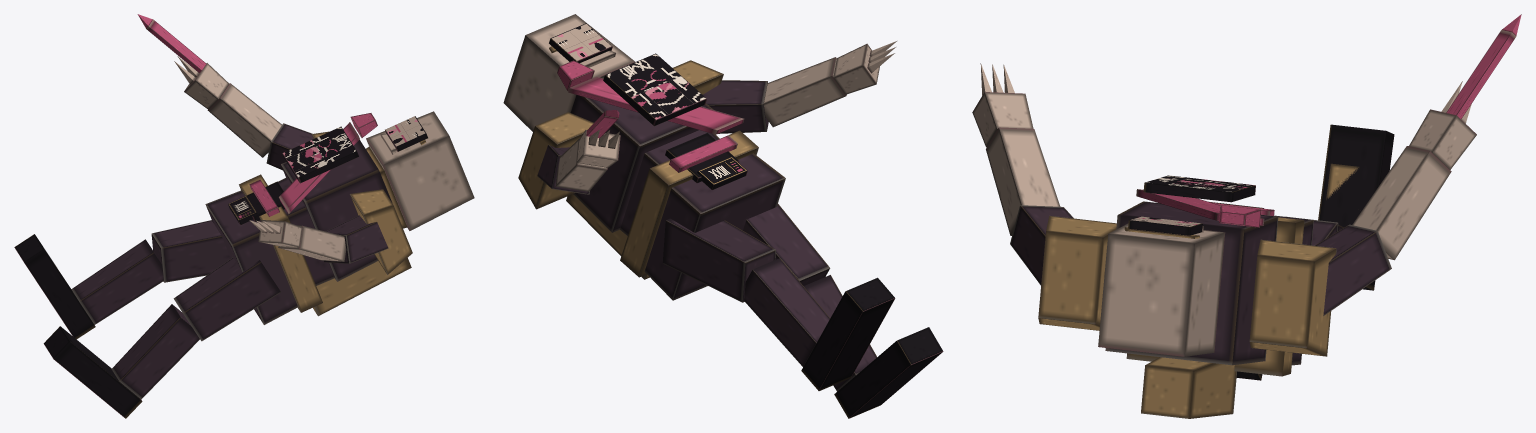
The model's file is promissor_death.obj.
The picture shows the model from 3 angles, left to right: view 1: azimuth 30°, elevation 25°; view 2: azimuth 150°, elevation 25°; view 3: azimuth 270°, elevation 25°; orthographic projection. The views are drawn at different scales.
Visible parts, largest first — view 1: promissor_death; view 2: promissor_death; view 3: promissor_death.
Part boxes in pixels (bbox=[...]): promissor_death: bbox=[14, 14, 474, 418]; promissor_death: bbox=[503, 14, 943, 418]; promissor_death: bbox=[972, 14, 1521, 418].
Size of the model in its own units: 1.04 by 0.7665 by 0.8559.
Materials: 1 (1 with a texture image).
